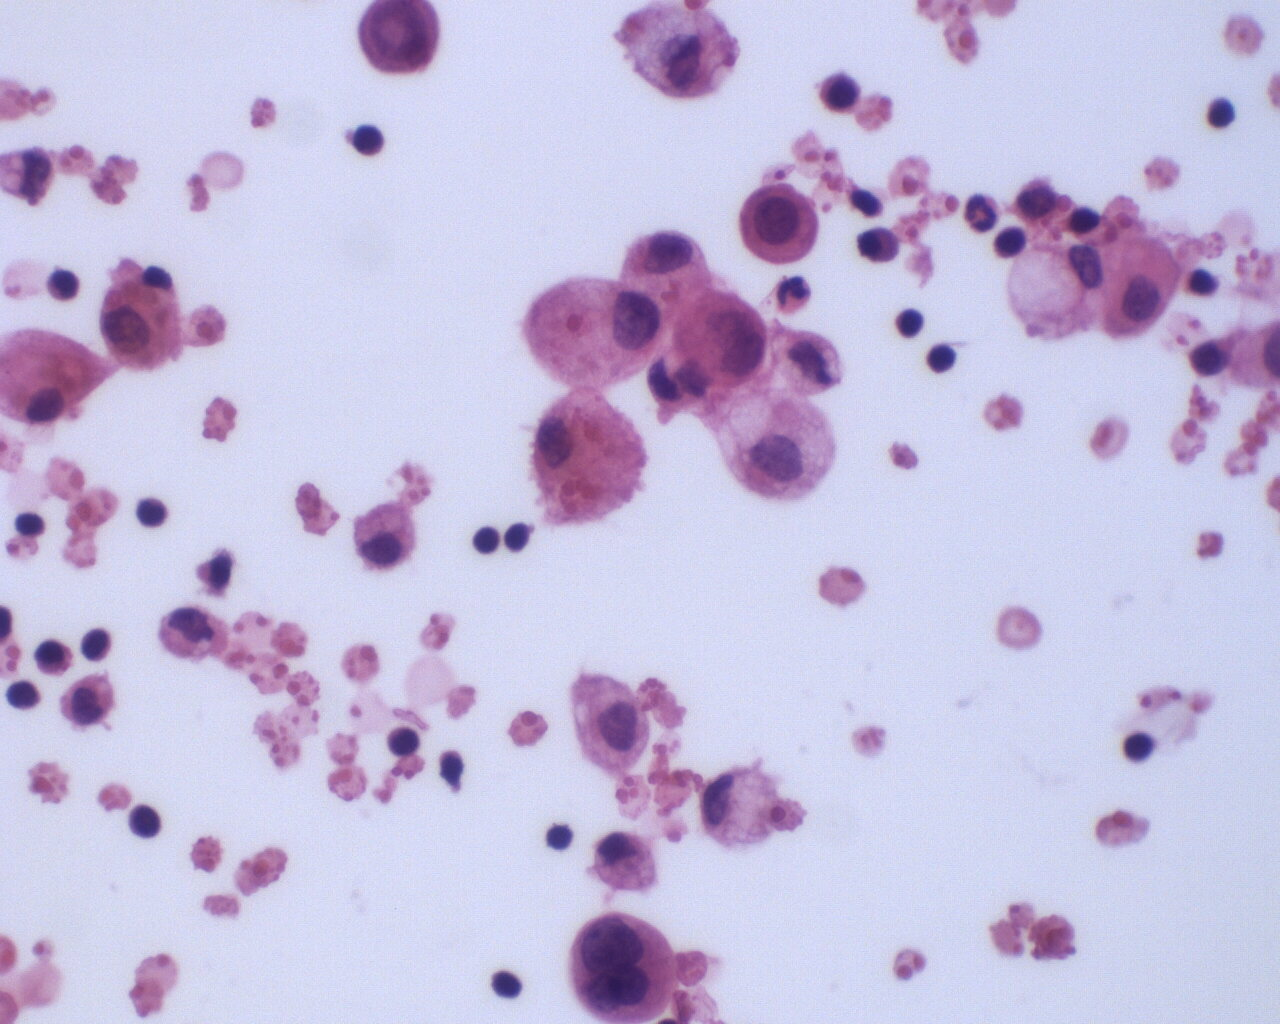ab: (357, 1, 441, 75)
histo: (526, 385, 652, 523), (525, 277, 664, 392), (717, 383, 838, 507), (999, 240, 1109, 346), (698, 765, 781, 852)
lymph: (1197, 92, 1236, 135), (126, 802, 164, 843), (132, 497, 173, 532), (350, 121, 388, 159), (924, 342, 962, 378), (1120, 730, 1161, 765), (386, 724, 420, 757), (472, 523, 501, 560)
meso: (1104, 233, 1183, 343), (736, 177, 821, 272)
neutro: (958, 188, 1001, 238)
